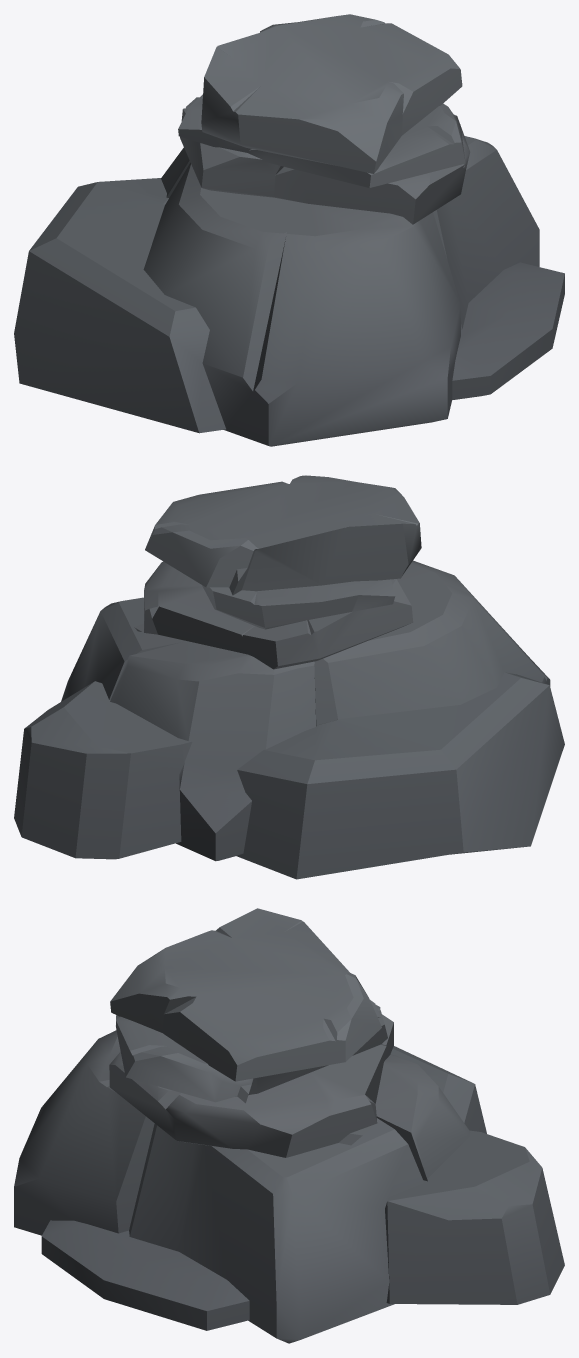
The model's file is Rock_13.fbx.
3 views of the same model, one above another, from view 1: azimuth 30°, elevation 25°; view 2: azimuth 150°, elevation 25°; view 3: azimuth 270°, elevation 25° (orthographic). The views are drawn at different scales.
Parts seen in each view (by area): view 1: Rock_13; view 2: Rock_13; view 3: Rock_13.
Part boxes in pixels (x1,y1,x2,y2): Rock_13: (14,14,564,446); Rock_13: (14,475,564,879); Rock_13: (14,908,564,1343).
Size of the model in its own units: 497 by 276 by 489.
